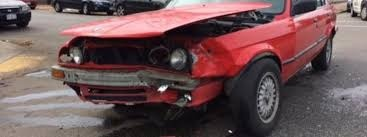Broken-glass: (48, 5, 276, 110)
Dent: (190, 38, 246, 83)
